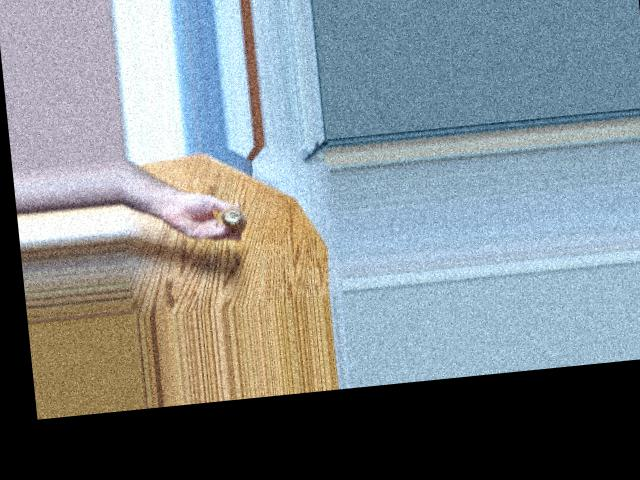sweet_potato: (221, 202, 251, 227)
